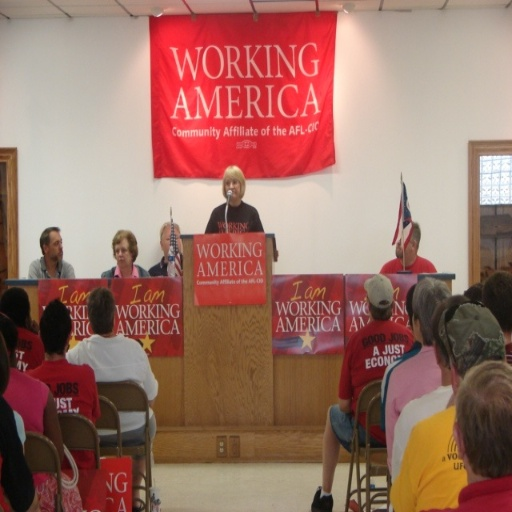hand: (273, 248, 279, 261)
